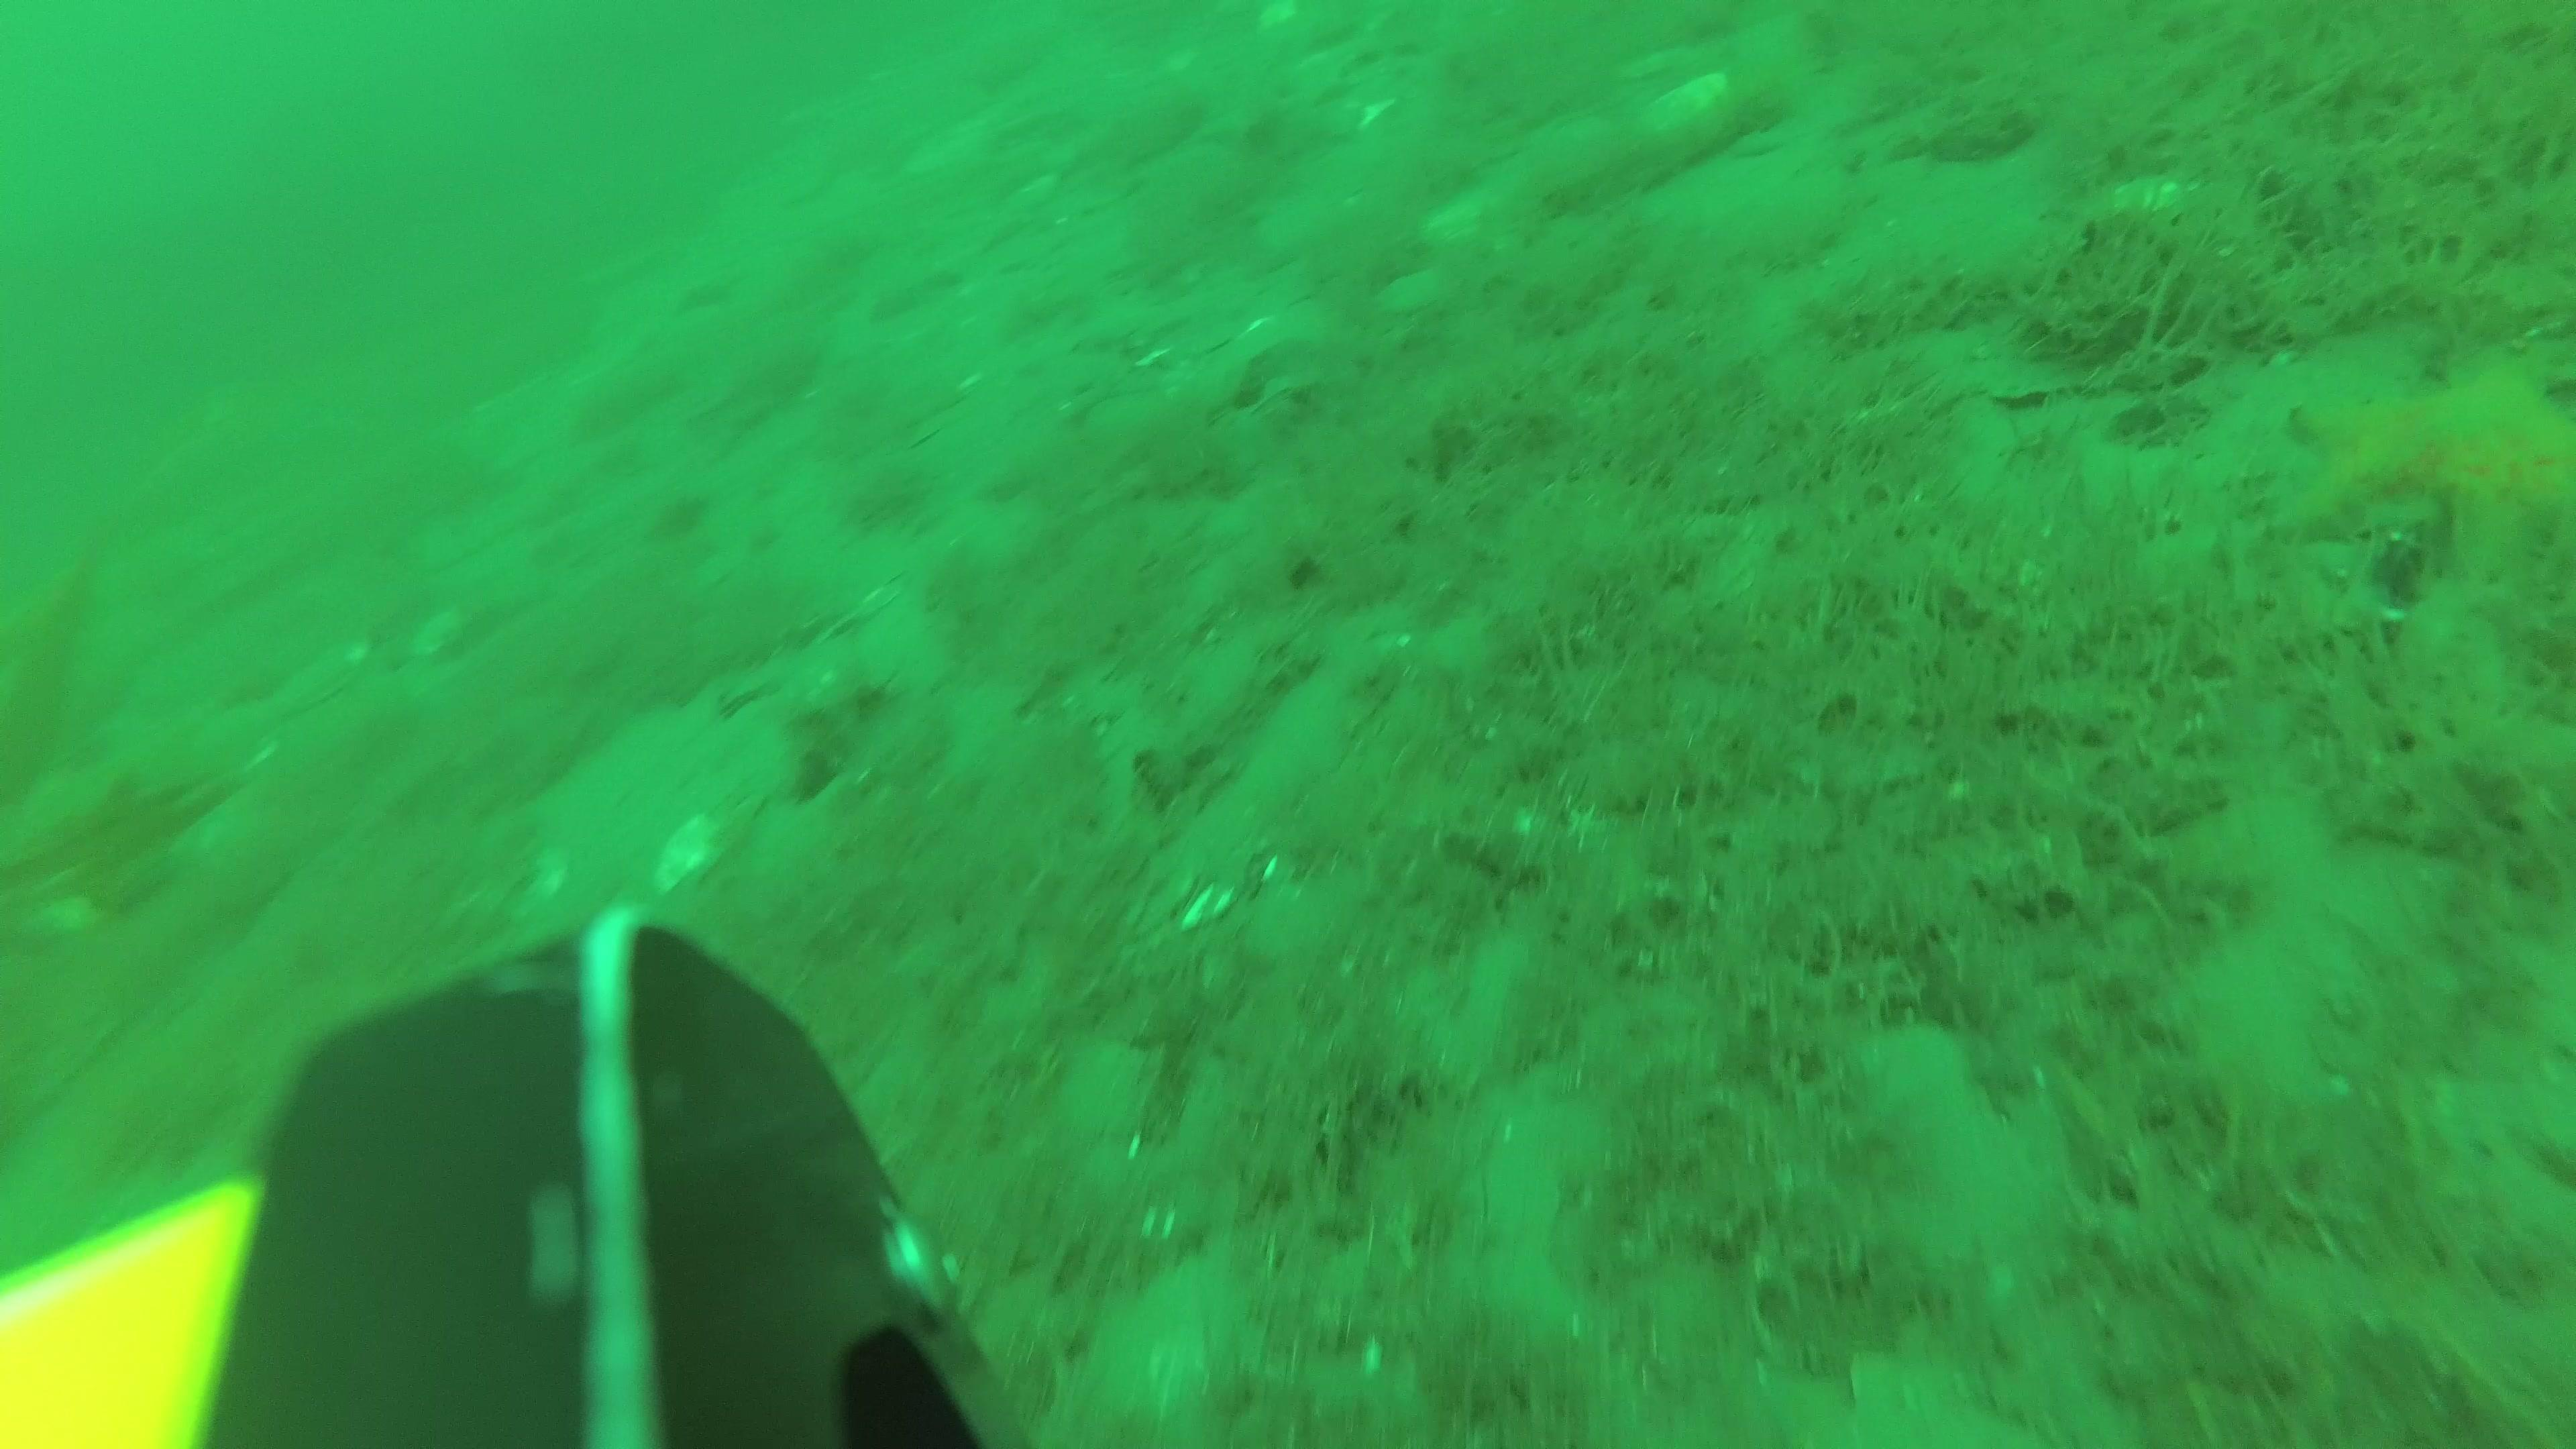scallop: (1854, 1028, 2058, 1258), (267, 637, 366, 717), (1638, 67, 1734, 129), (653, 803, 720, 885)
starfish: (2296, 356, 2576, 566)
